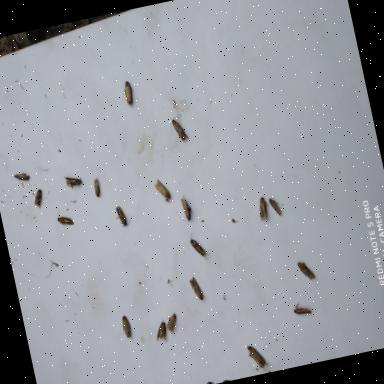pbw: (166, 113, 189, 144), (246, 340, 266, 370), (113, 204, 134, 228), (296, 258, 316, 282), (188, 274, 204, 302), (176, 196, 193, 222), (62, 172, 84, 192), (54, 204, 73, 227), (152, 176, 170, 200), (255, 195, 272, 220), (121, 78, 136, 106), (152, 320, 169, 342), (292, 298, 312, 316), (164, 312, 180, 334), (266, 194, 282, 216), (120, 314, 132, 338), (90, 175, 103, 197), (31, 187, 44, 207), (13, 168, 30, 182)
